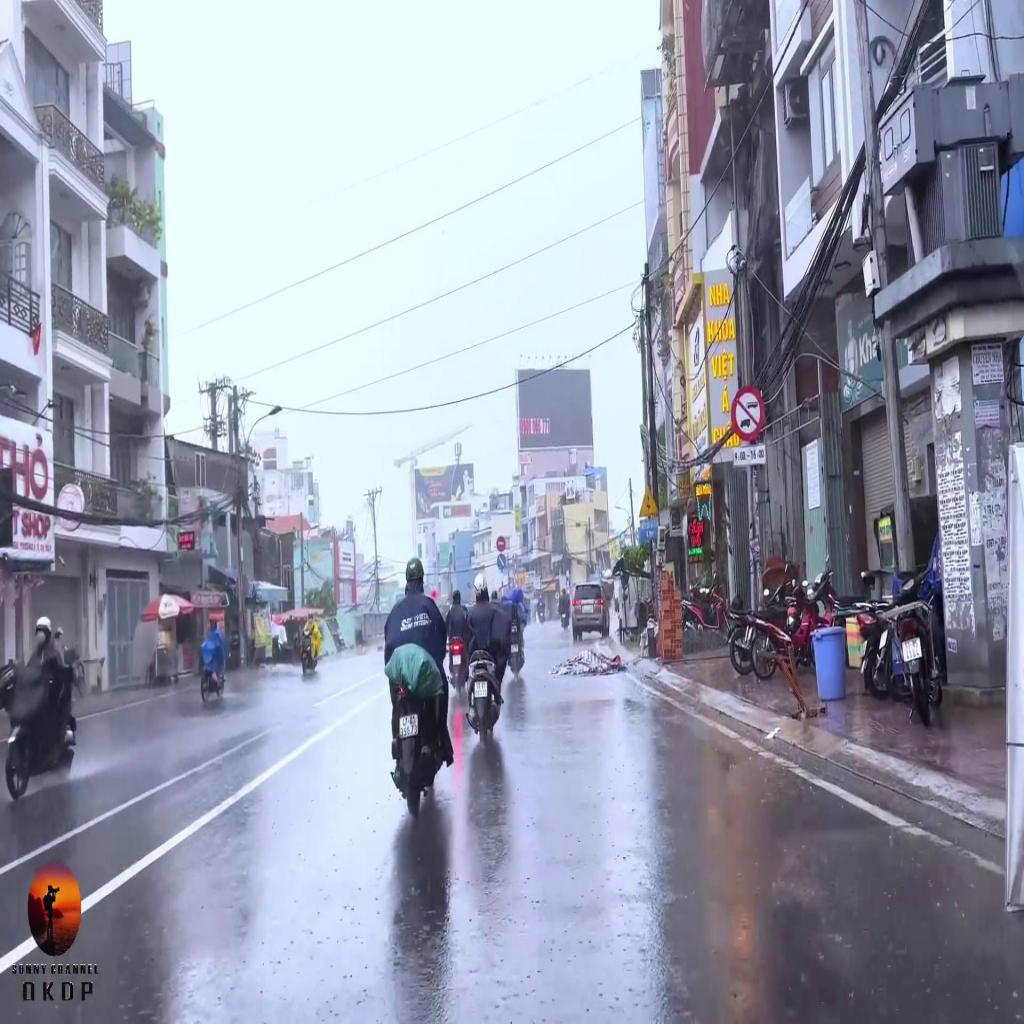cam_o_to_tai_va_xe_khach: (731, 383, 766, 444)
cam_xe_di_nguoc_chieu: (495, 534, 506, 552)
huong_phai_di_vuot_chuong_ngai_vat_phai: (497, 553, 507, 572)
khac: (731, 442, 767, 469), (638, 482, 659, 520)
